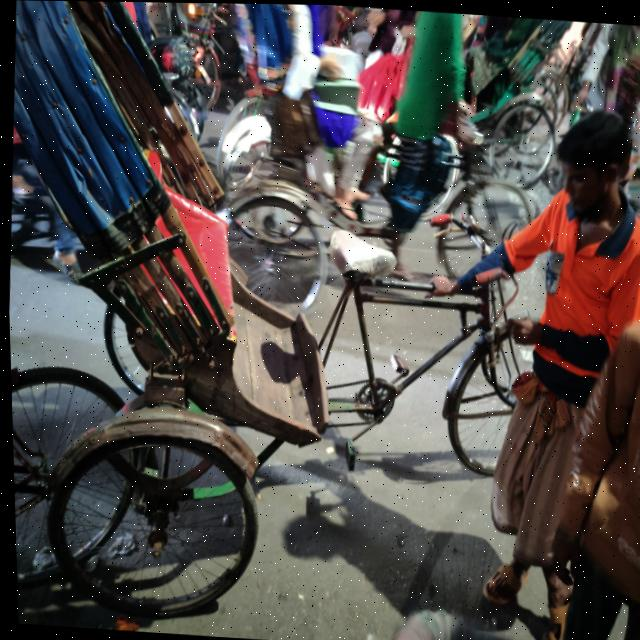rikshaw: (0, 0, 561, 629)
